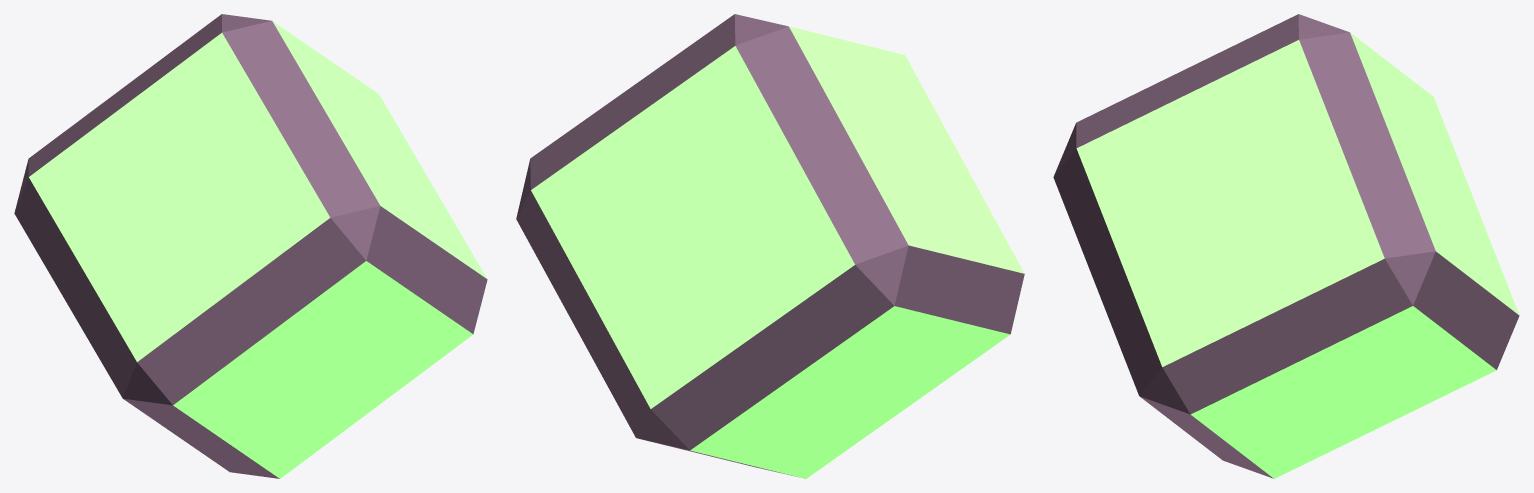
File: EnergyPickUp.fbx
3 views of the same model, side by side, from view 1: azimuth 30°, elevation 25°; view 2: azimuth 150°, elevation 25°; view 3: azimuth 270°, elevation 25° (orthographic). The views are drawn at different scales.
Visible parts, largest first — view 1: EnergyPickUp; view 2: EnergyPickUp; view 3: EnergyPickUp.
Part boxes in pixels (x1,y1,x2,y2): EnergyPickUp: (14,14,487,478); EnergyPickUp: (516,14,1024,478); EnergyPickUp: (1053,14,1519,478).
Size of the model in its own units: 248 by 289 by 277.
